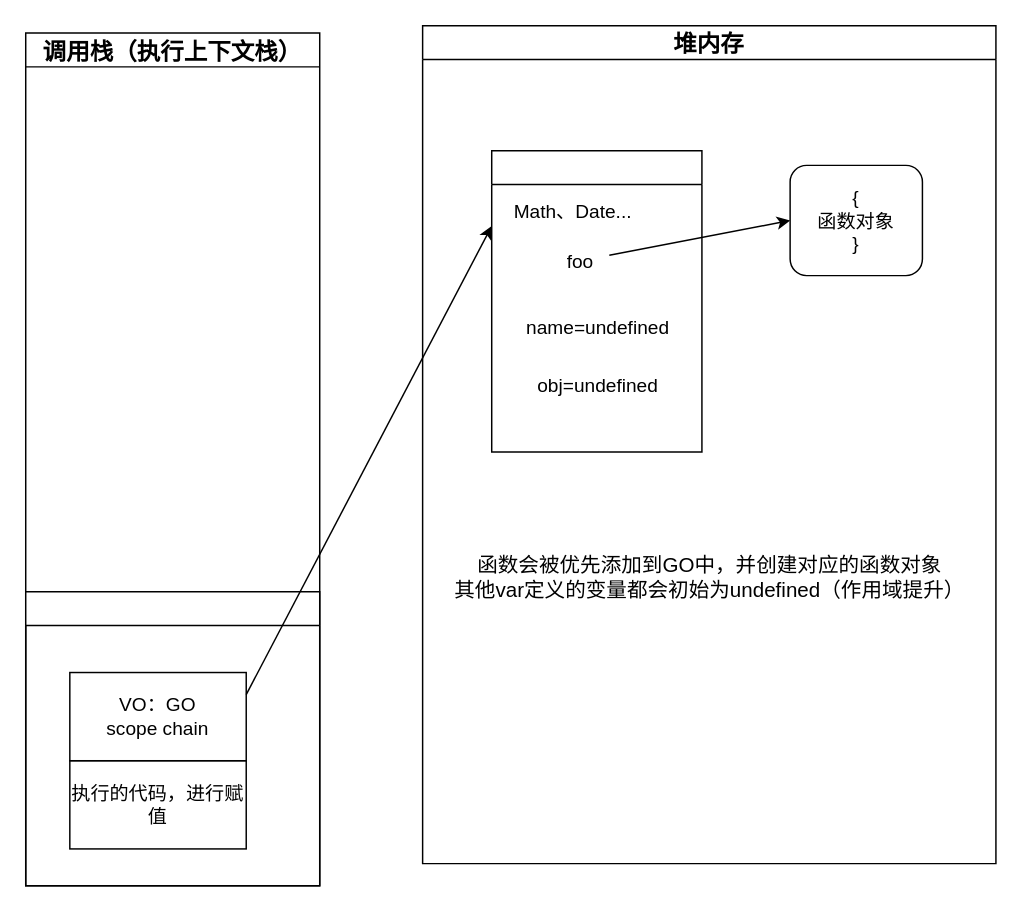
This 1022x911 diagram has some shape labels left out. The box of each missing label's shape, as (x1, y1, x2, y2) in pixels:
GO（window）: (490, 149, 702, 452)
全局执行上下文（GEC）: (24, 590, 320, 886)
